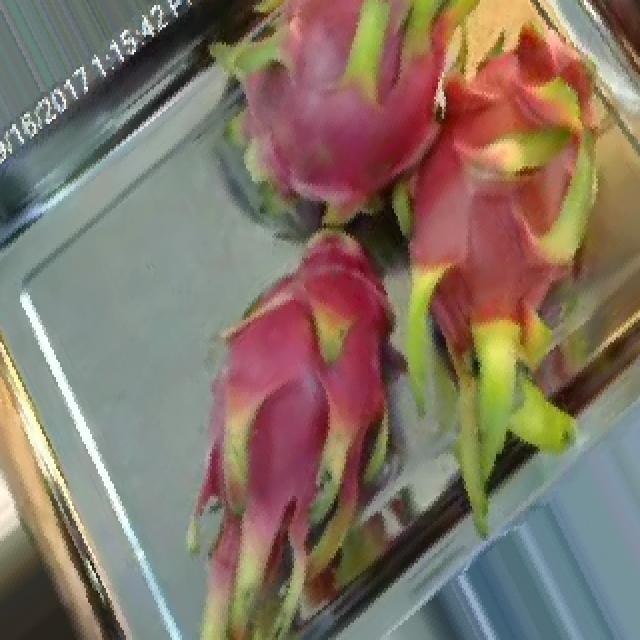Fruit: (558, 0, 640, 109)
